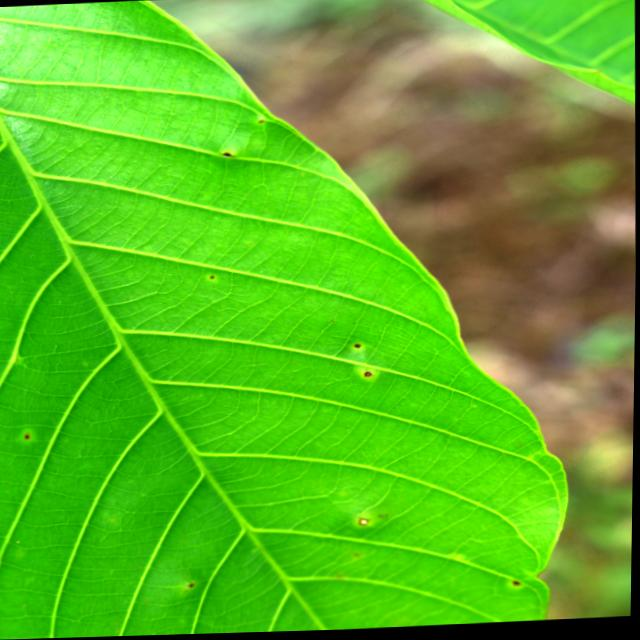Colletotrichum: (364, 373, 372, 378), (355, 345, 361, 349)
